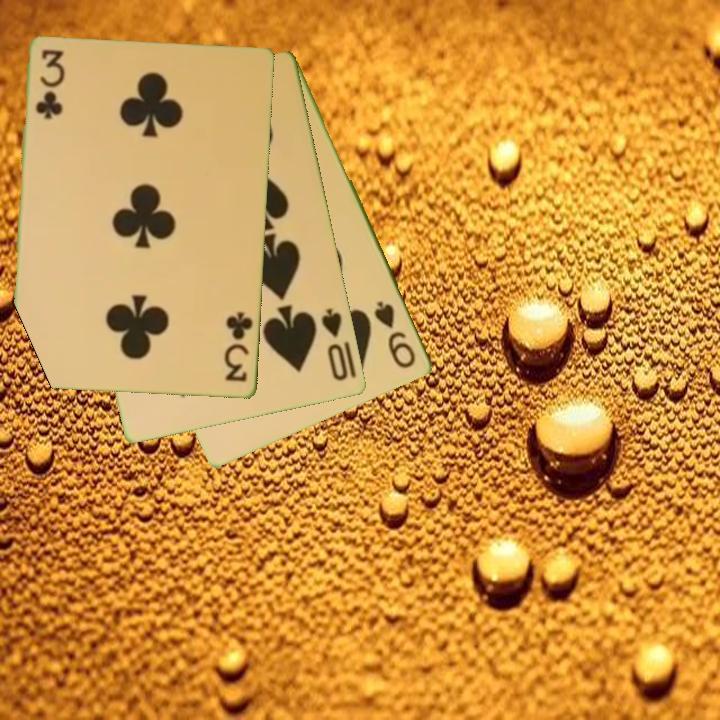10s: (318, 305, 352, 384)
3c: (221, 309, 256, 385), (32, 46, 65, 123)
9s: (371, 297, 419, 372)
